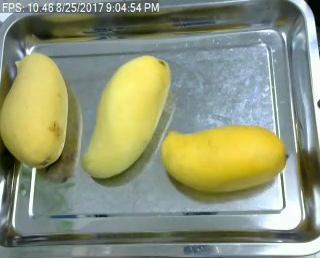Mango: (83, 53, 172, 179), (162, 124, 287, 193), (0, 50, 71, 168)
